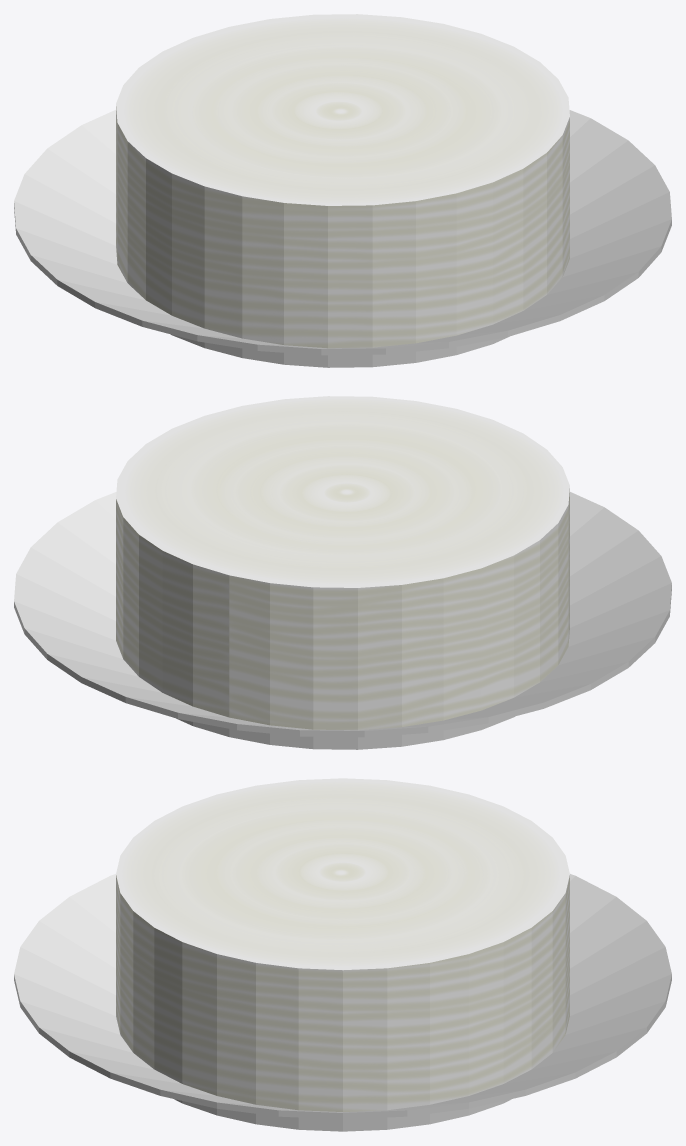
Rendered from Cake.fbx.
The picture shows the model from 3 angles, top to bottom: view 1: azimuth 30°, elevation 25°; view 2: azimuth 150°, elevation 25°; view 3: azimuth 270°, elevation 25°; orthographic projection.
Visible parts, largest first — view 1: 円柱, 円柱.001; view 2: 円柱, 円柱.001; view 3: 円柱, 円柱.001.
Part boxes in pixels (bbox=[...]): 円柱: bbox=[116, 14, 569, 348]; 円柱.001: bbox=[14, 110, 671, 367]; 円柱: bbox=[116, 396, 569, 730]; 円柱.001: bbox=[14, 492, 671, 749]; 円柱: bbox=[116, 778, 569, 1111]; 円柱.001: bbox=[14, 874, 671, 1131].
Bounding box in the file's own units: 0.7246 × 0.1962 × 0.7246.
